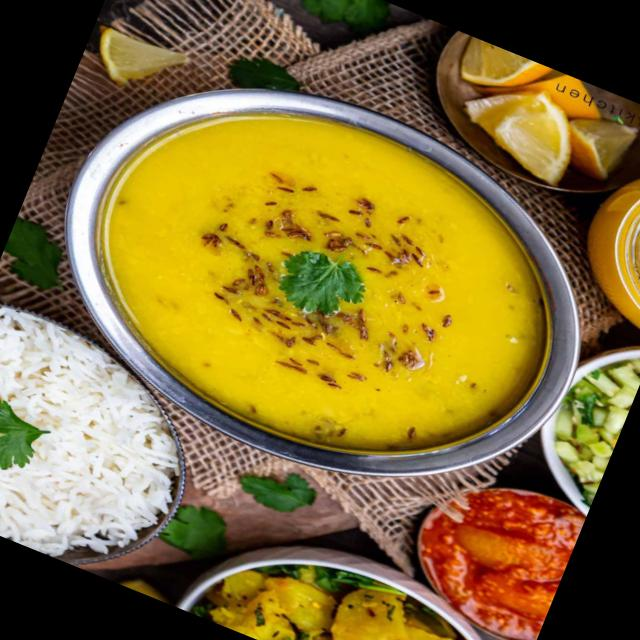dal: (94, 109, 538, 449)
